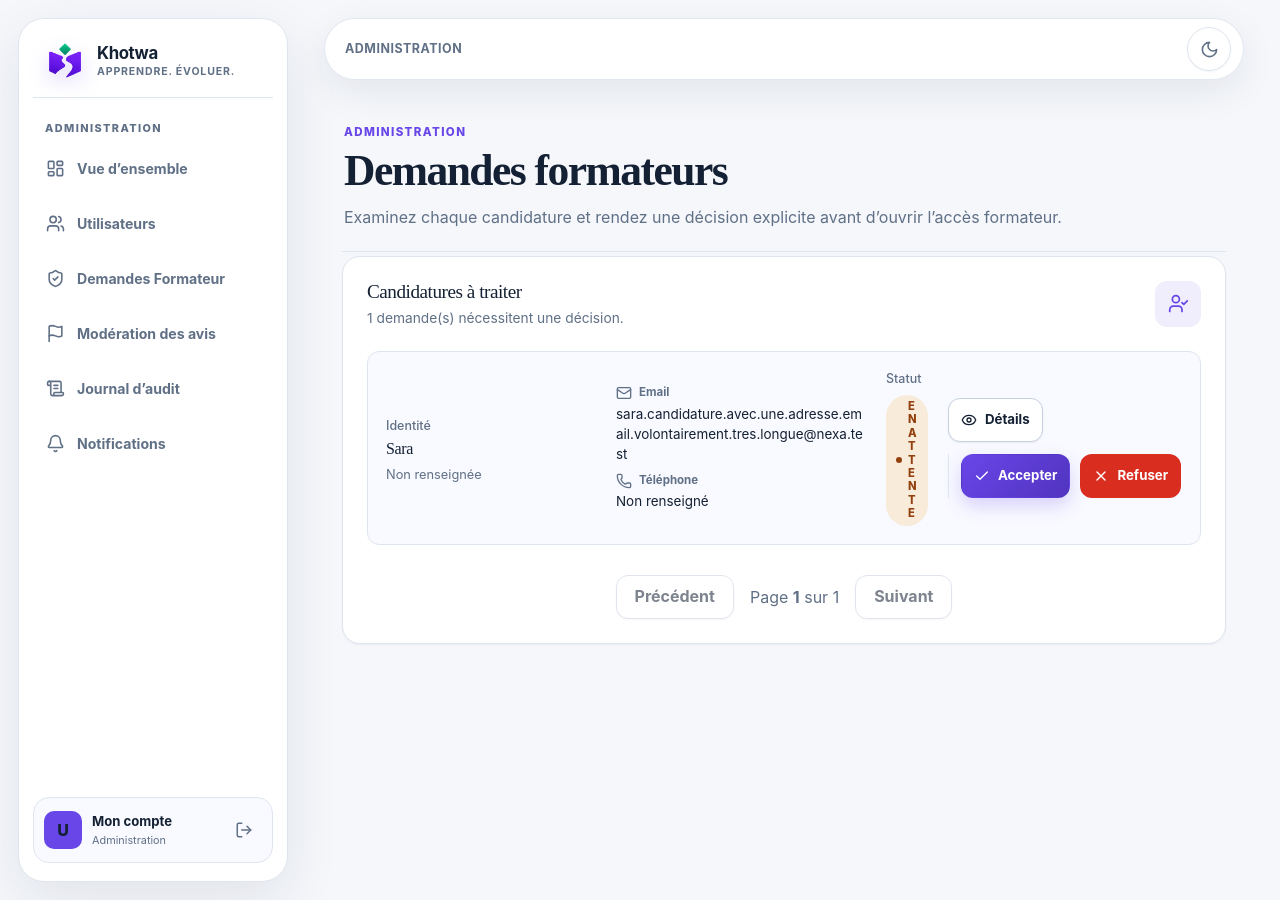
it: workflow administrateur des demandes formateurs › présente une carte lisible, protège les dates et confirme l’acceptation une seule fois
This screenshot has width=1280, height=900.
Expected: the heading "Candidatures à traiter" is shown, [367,281,522,302]
Expected: the text "Non renseignée" is shown, [385,466,499,482]
Click the button "Accepter".
click(1016, 476)  # box [961,454,1070,498]
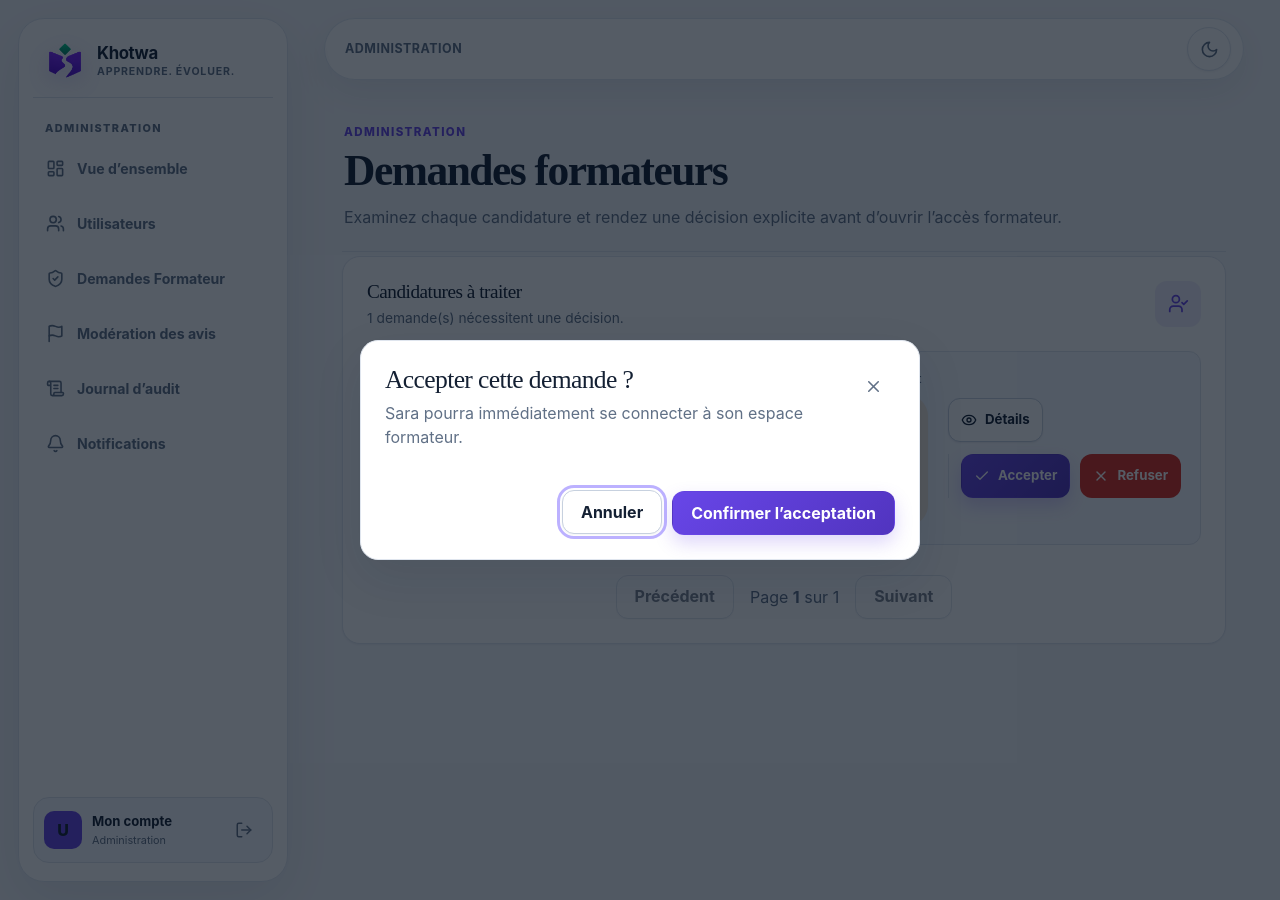
Click the button "Confirmer l’acceptation".
click(784, 513)  # box [672,491,895,535]
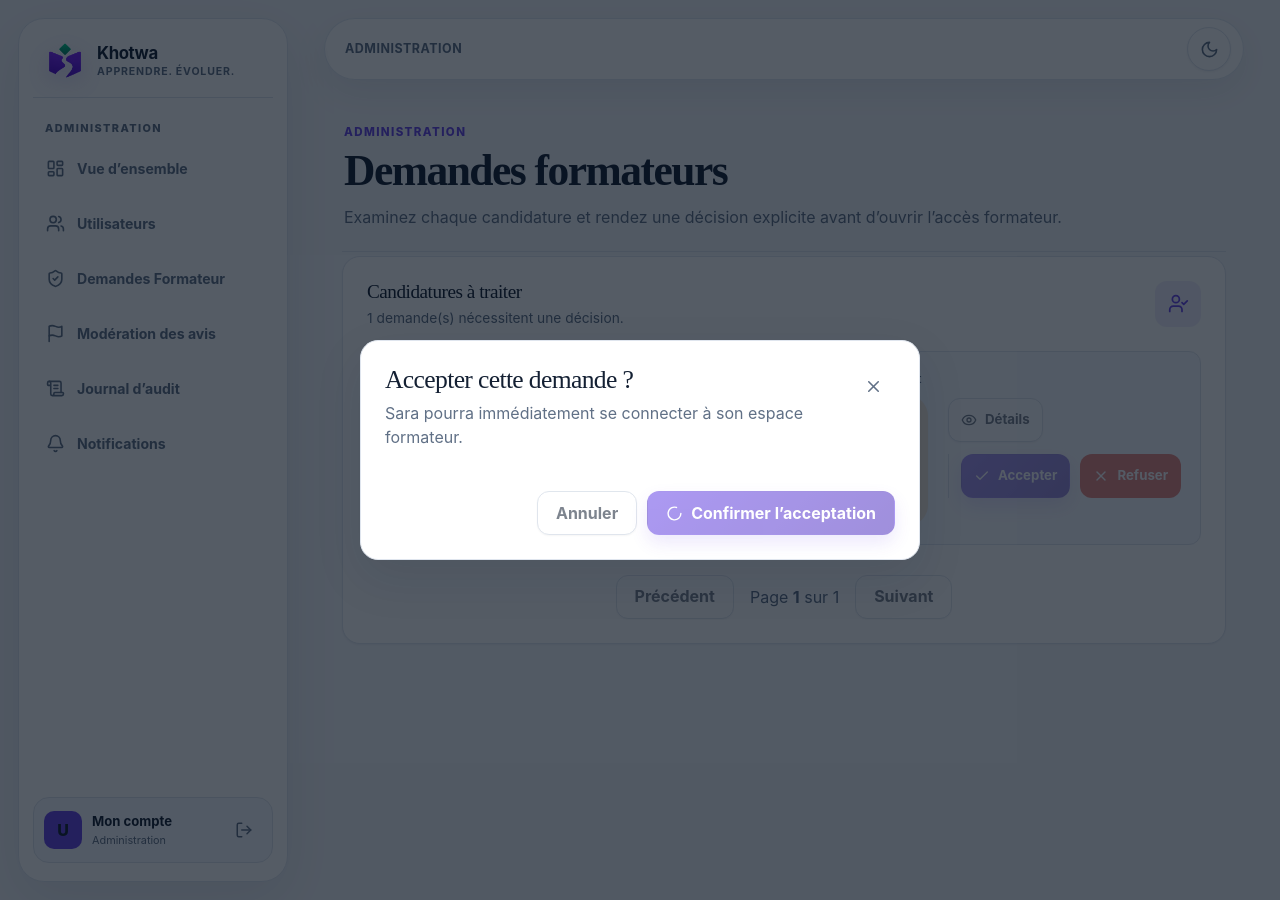
Click the button "Confirmer l’acceptation".
click(771, 513)  # box [647,491,895,535]
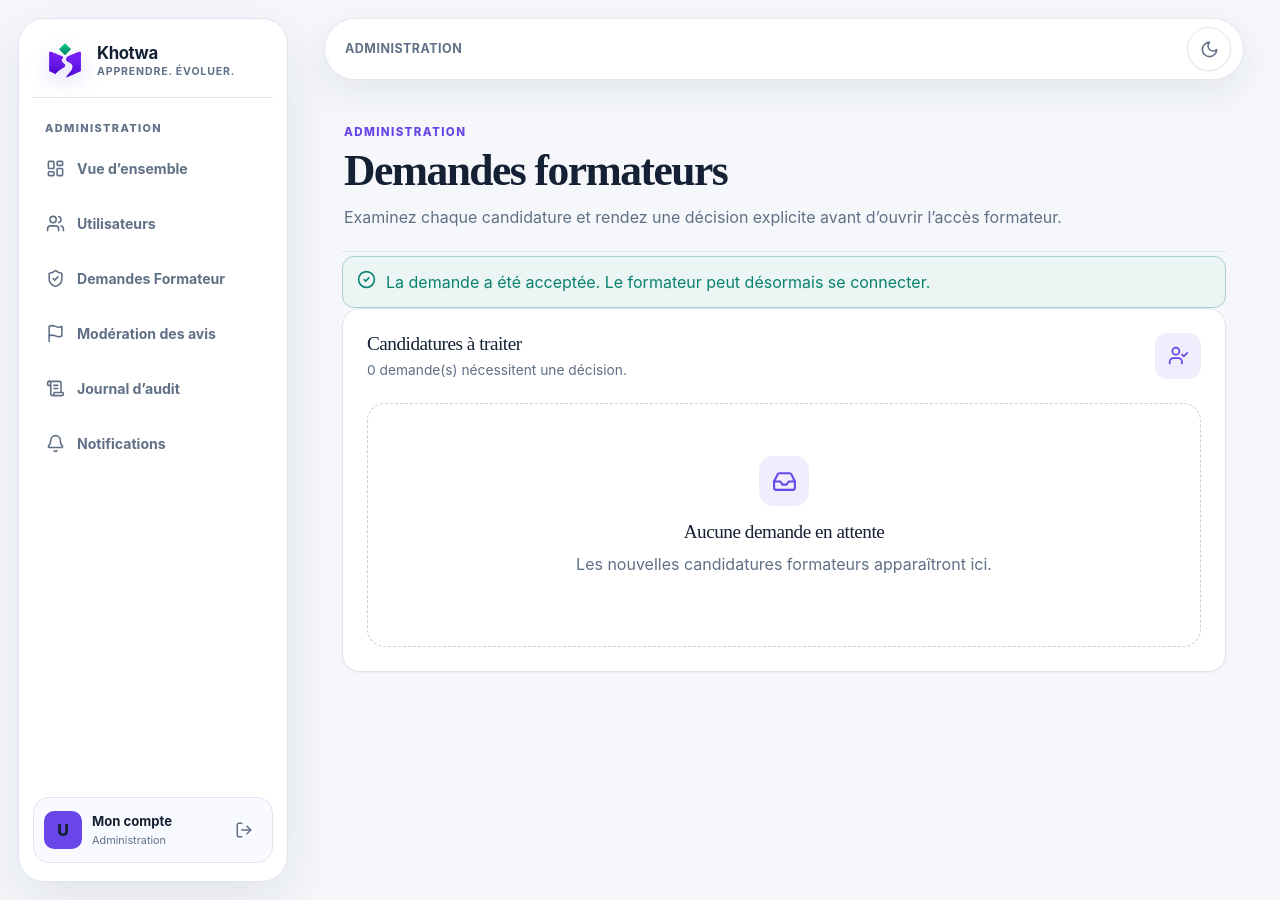
Now the text "demande a été acceptée" is shown, box [386,272,930,292]
